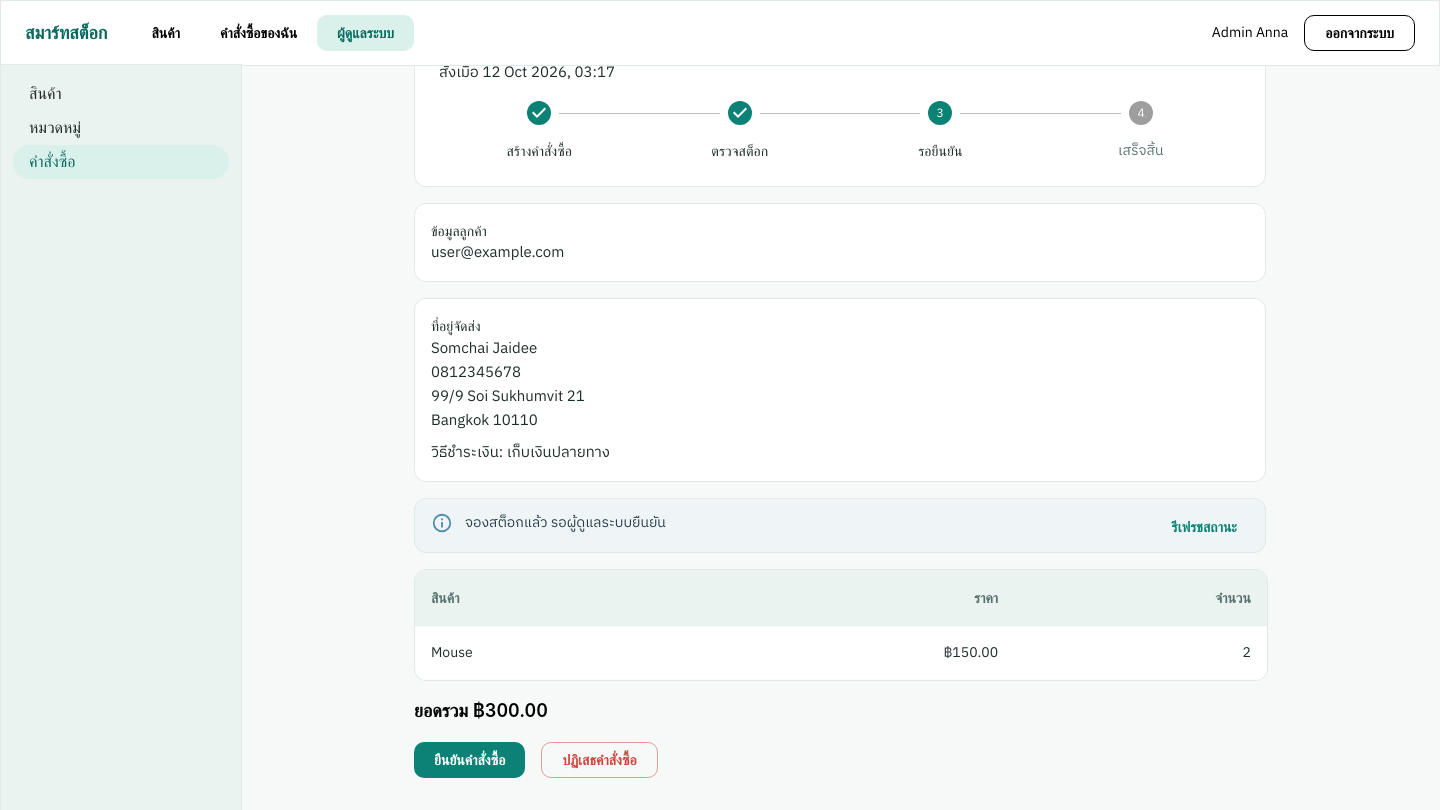
Test: rejects with the entered reason and shows it
(page scrolled)
Click the button "ปฏิเสธคำสั่งซื้อ" at (600, 760), box [541,742,658,778]
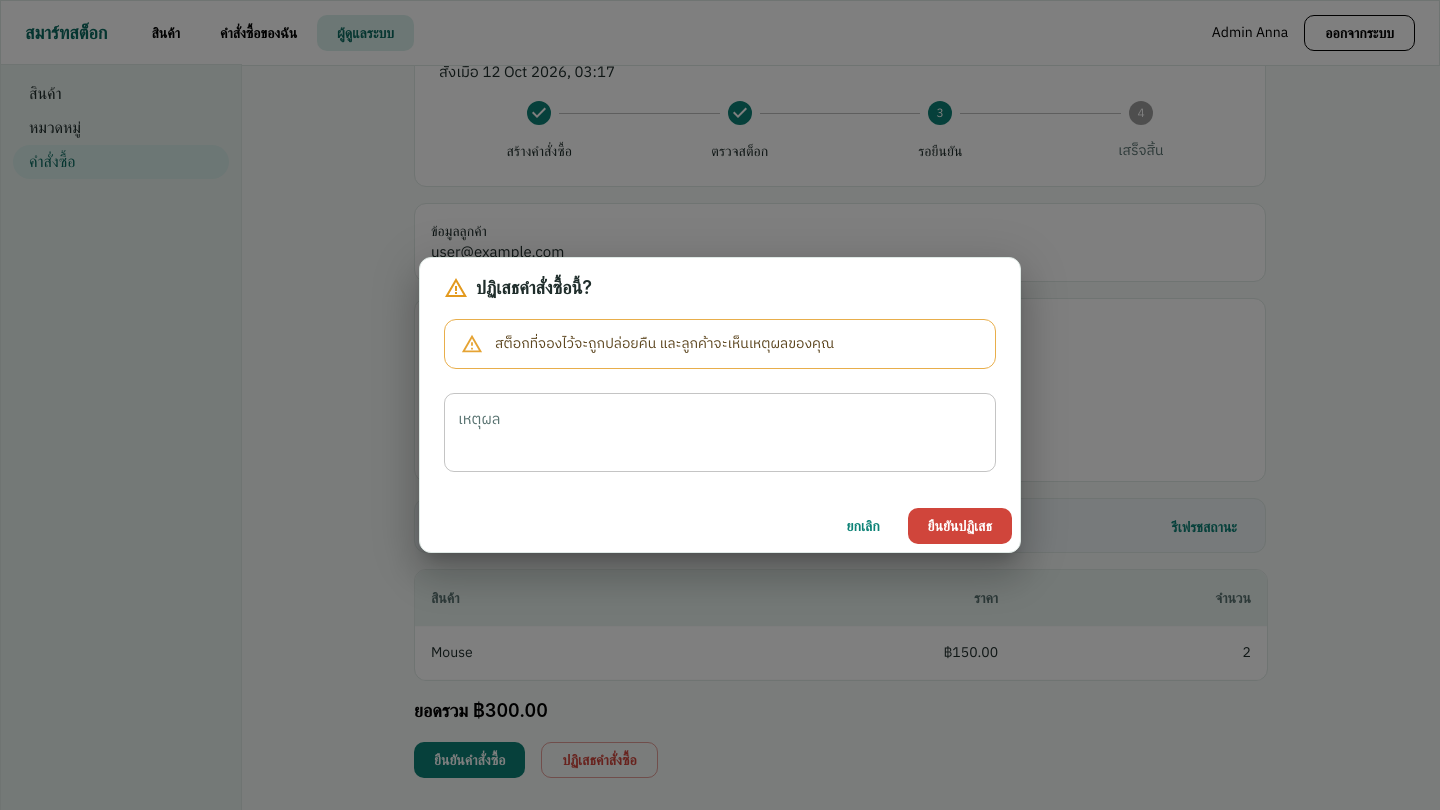
Type "Item damaged" into the text box labelled "เหตุผล" at (720, 432), box [458,409,982,455]
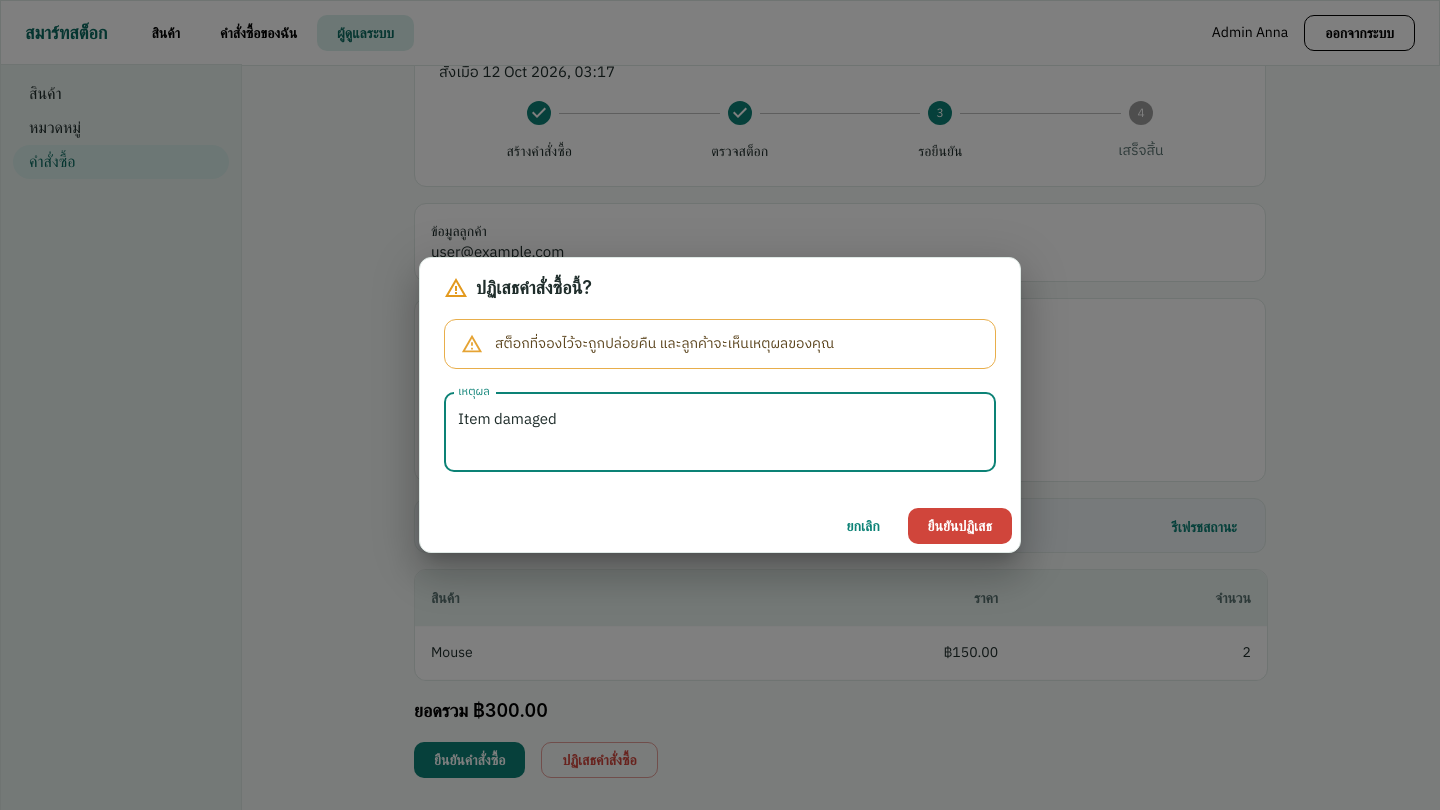
Click the button "ยืนยันปฏิเสธ" at (960, 526), box [908,508,1012,544]
(page scrolled)
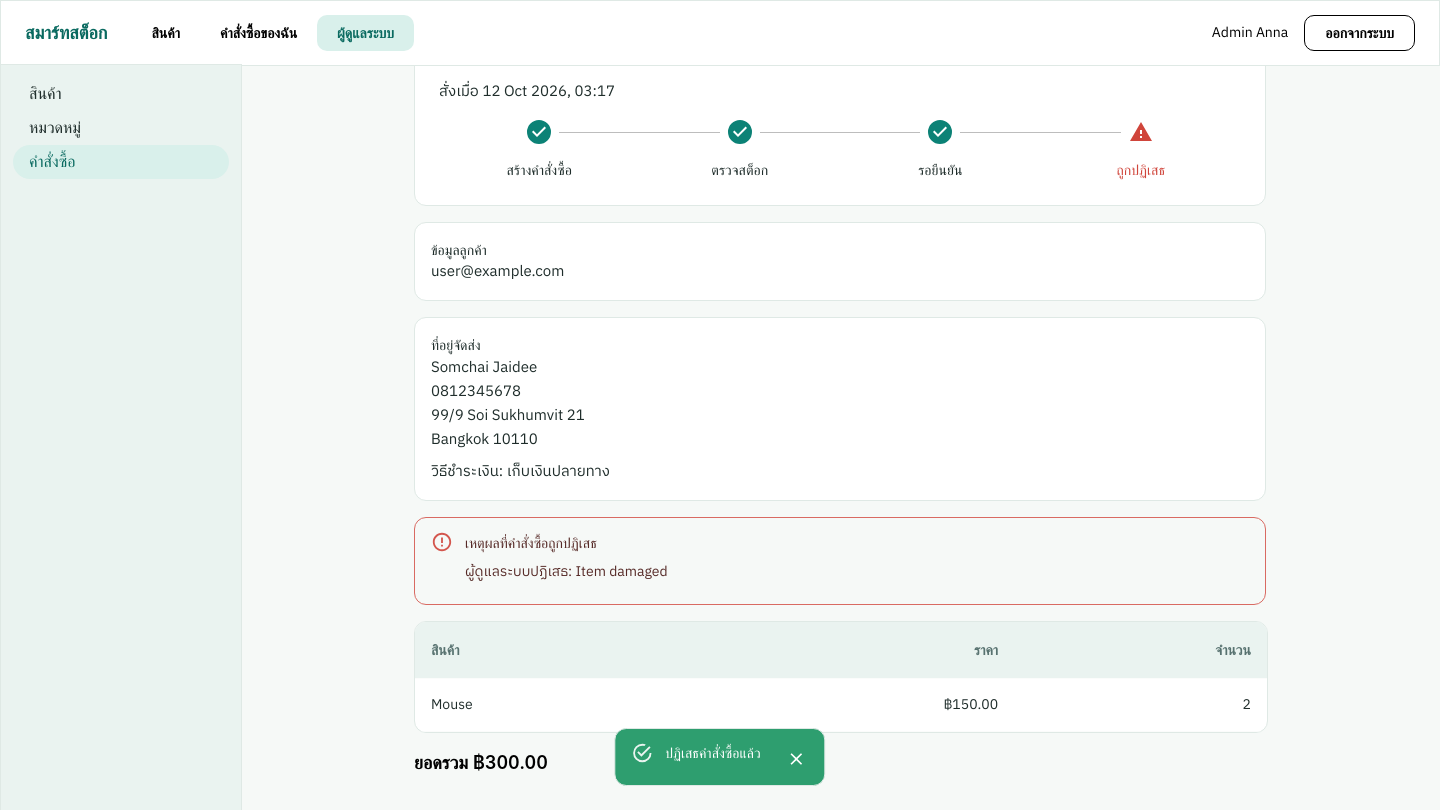
Expected: the text "ผู้ดูแลระบบปฏิเสธ: Item damaged" is shown, [465,562,668,582]
